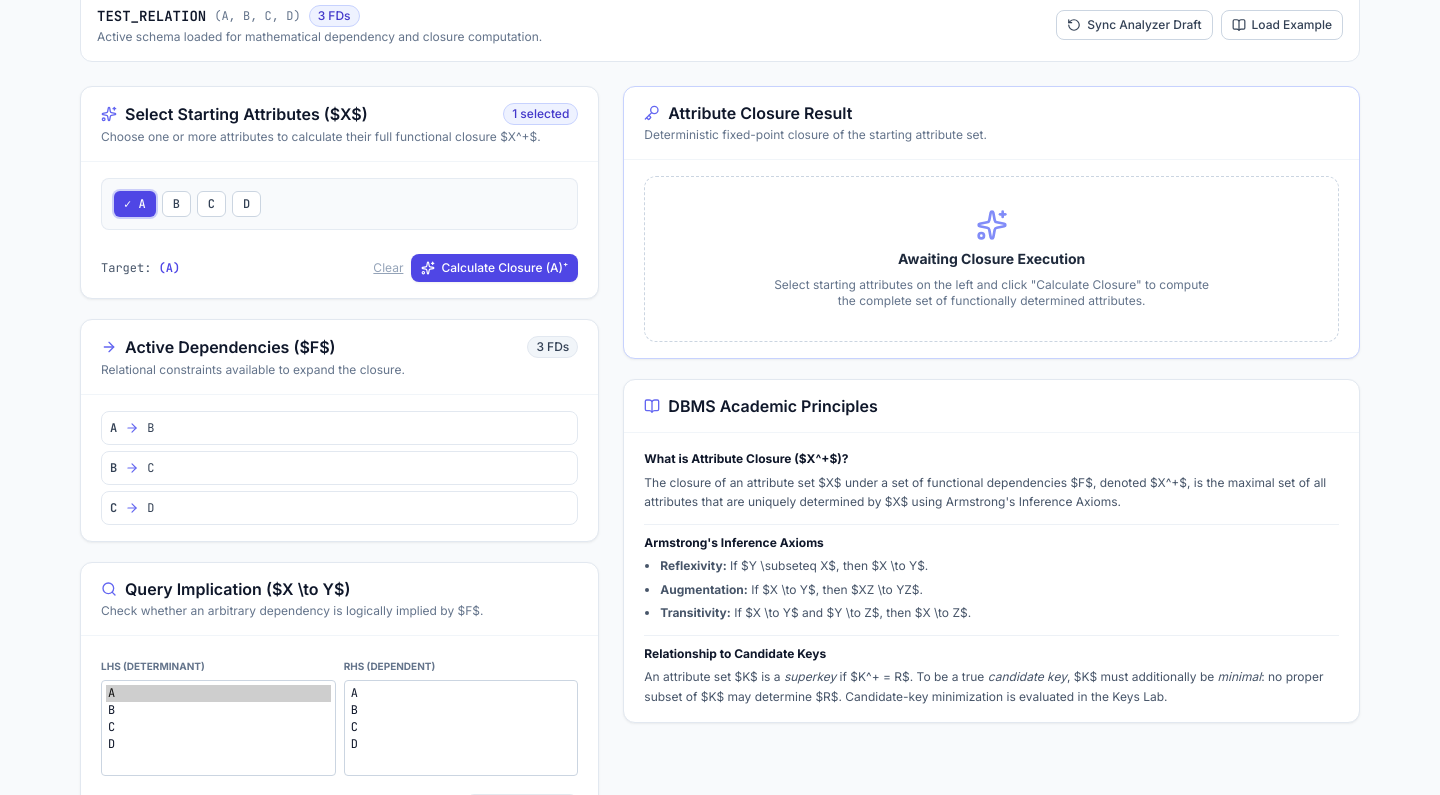
Test: ClosureLab Component (Phase 3) › evaluates functional determination implication query (X -> Y)
Select "A" in the dropdown below "LHS (Determinant)" at coordinates (218, 728), box [101,680,336,776]
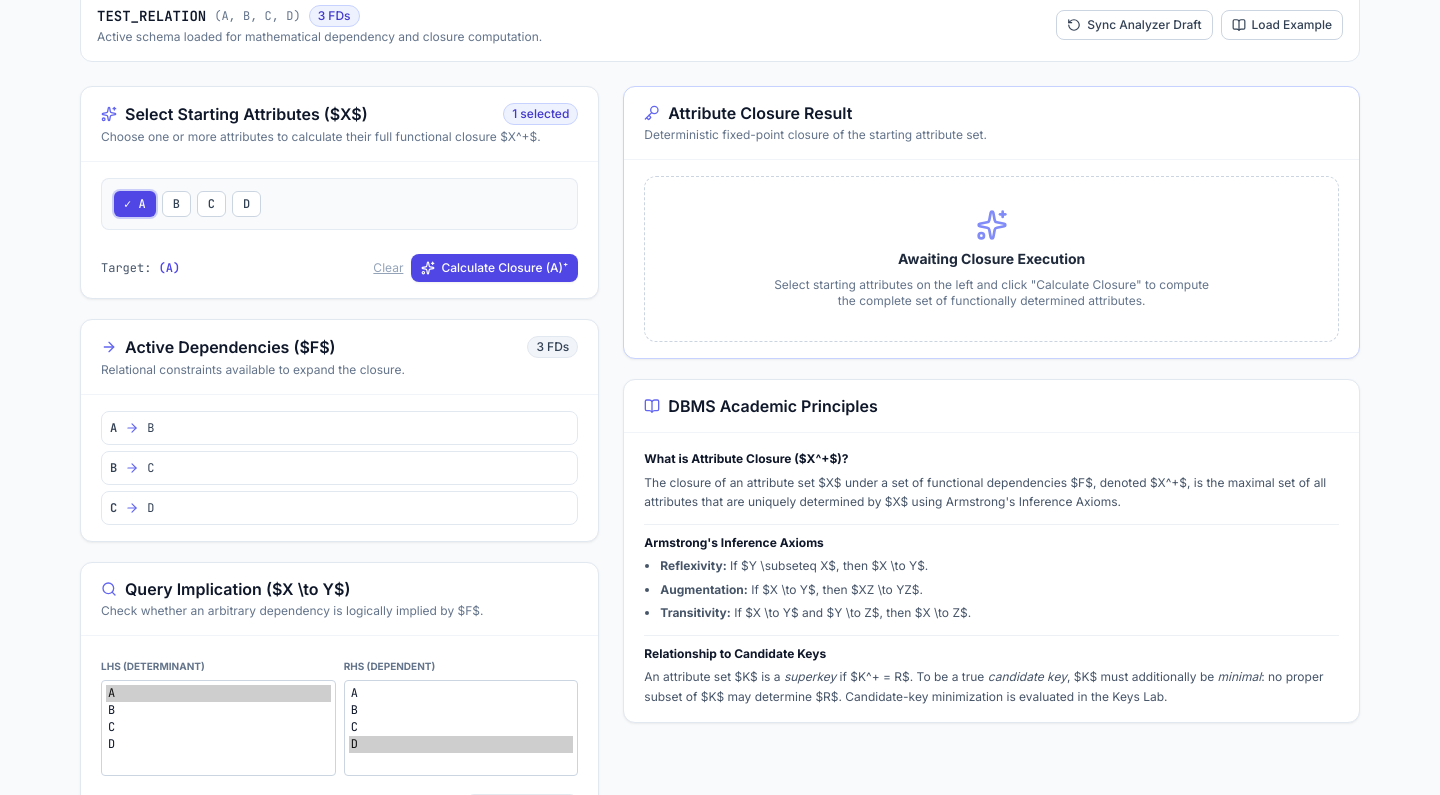
Select "D" in the dropdown below "RHS (Dependent)" at coordinates (461, 728), box [344,680,578,776]
(page scrolled)
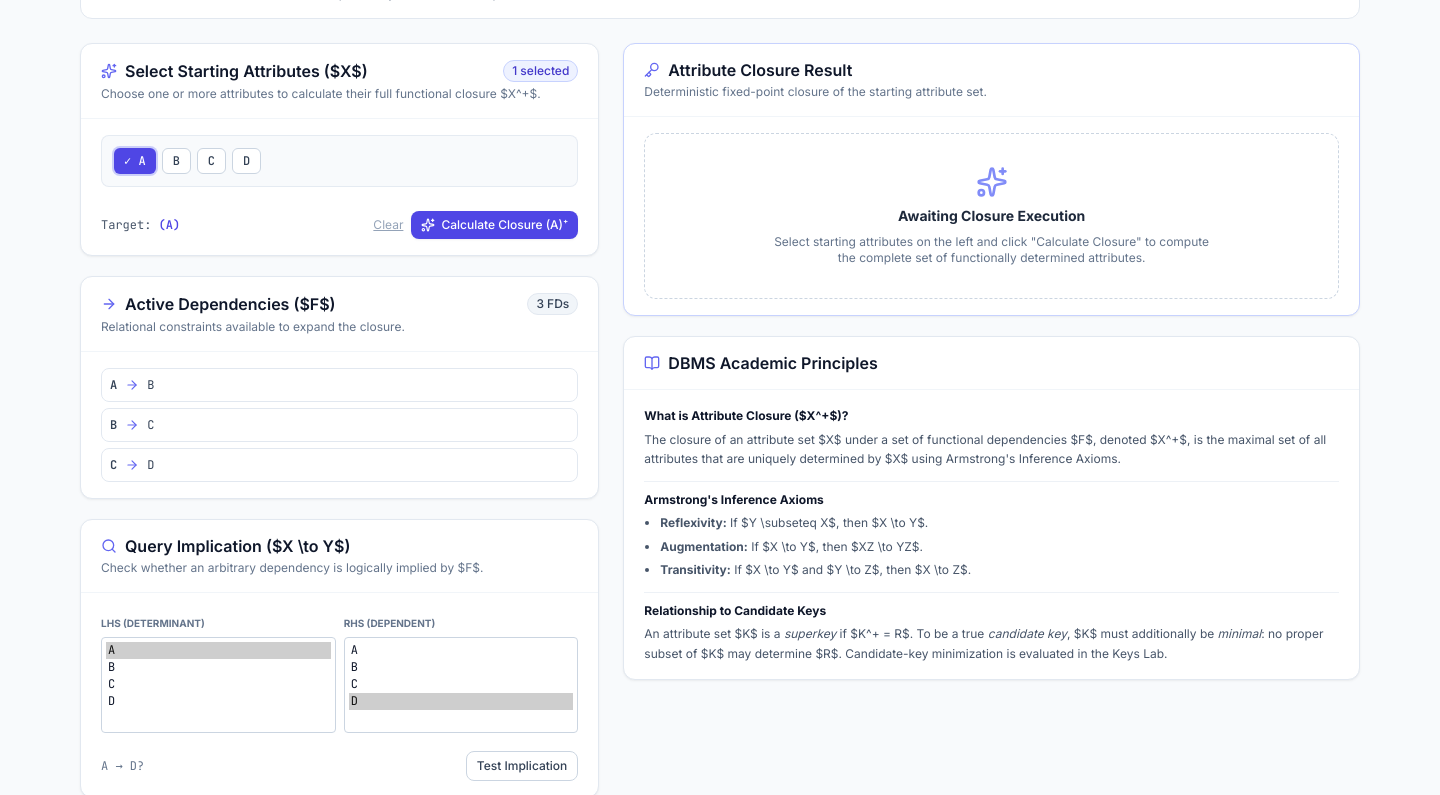
Click the button "Test Implication" at coordinates (522, 766), box [466,751,578,781]
(page scrolled)
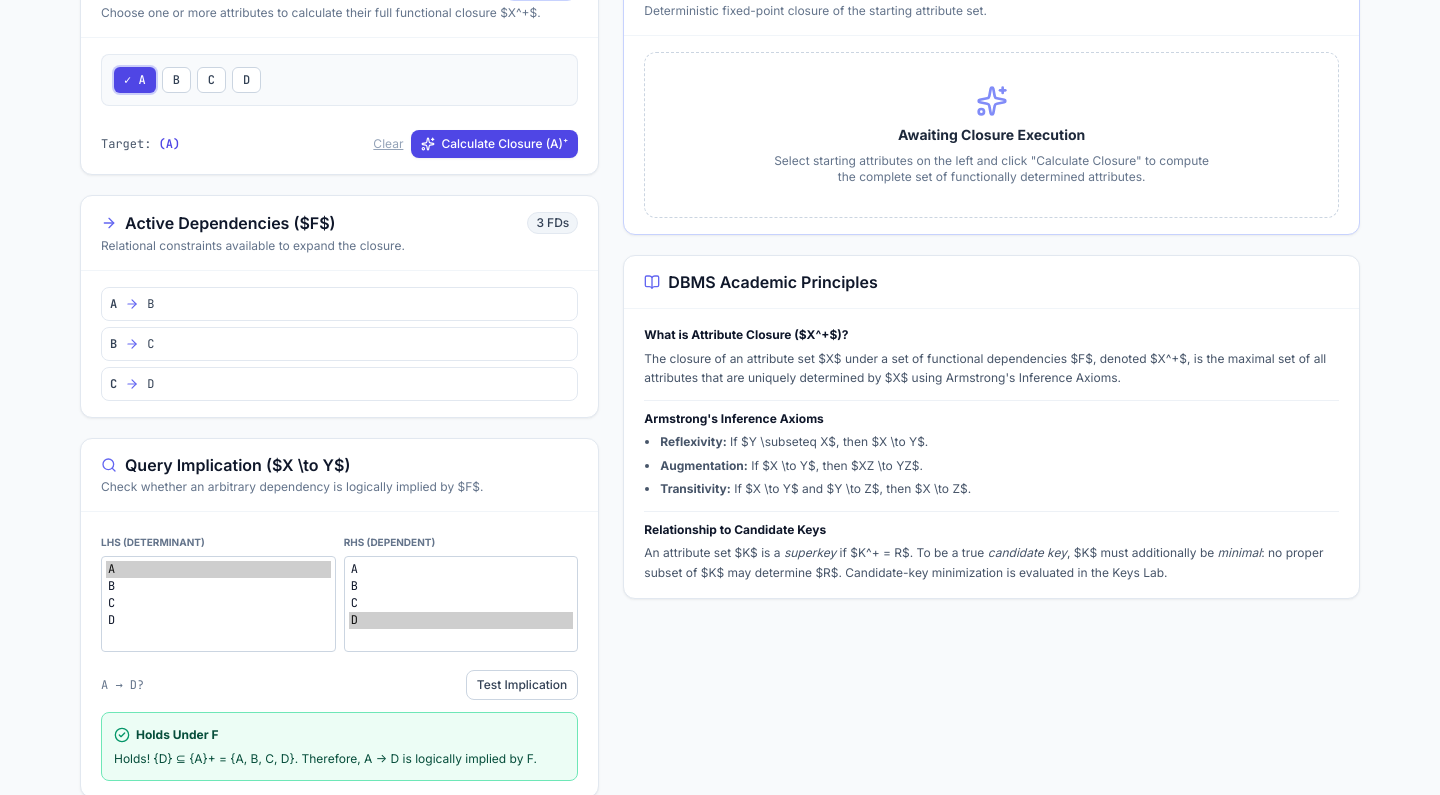
expect the text "Holds Under F" is shown: met, box [136,725,218,744]
